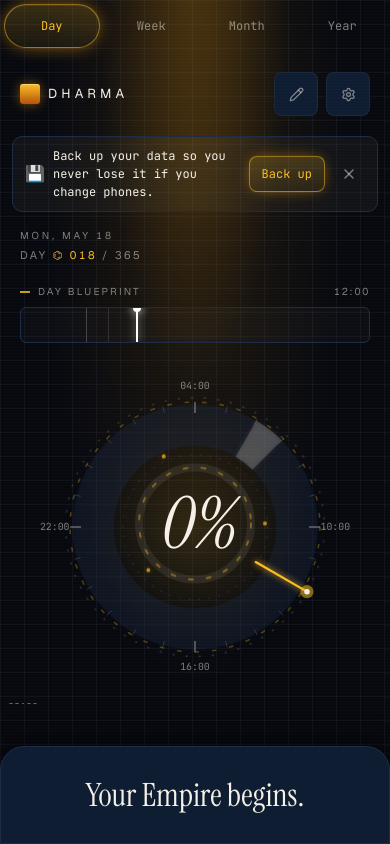
Test case: C-m9e-009: AppShell — year-branch + monthTarget; single usePersistedState › switching via ViewSwitcher to Month after Year shows today's month (not stale target)
(page scrolled)
Switch to Year (no monthTarget set via tap)
Click the tab "Year": (342, 26) top-left (294, 0), bottom-right (389, 52)
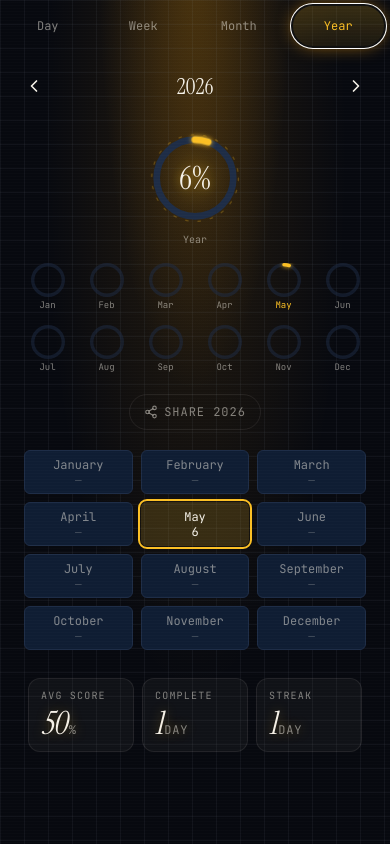
Result: the list named "months of" is shown at top-left (12, 438), bottom-right (378, 662)
Switch back to Month directly via switcher — should show today's month (May 2026)
Click the tab "Month": (239, 26) top-left (191, 0), bottom-right (286, 52)
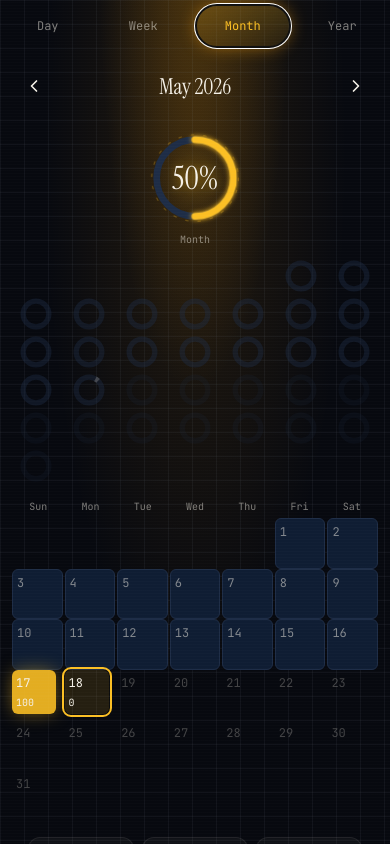
Result: the table is shown at top-left (12, 495), bottom-right (378, 822)
Result: the heading reads "May 2026" at top-left (159, 72), bottom-right (231, 100)
